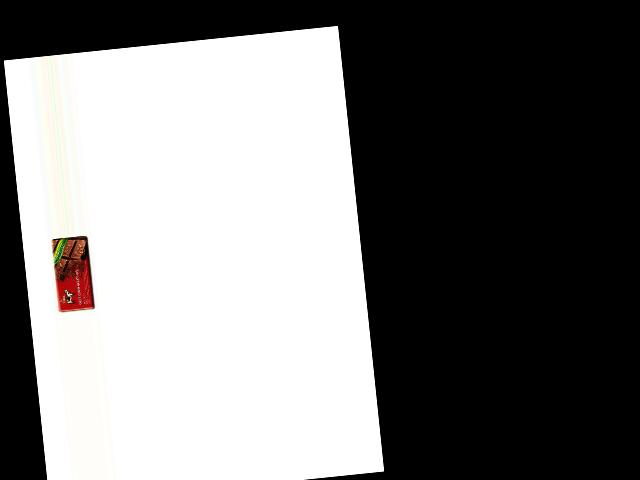chocolate: (50, 235, 96, 314)
